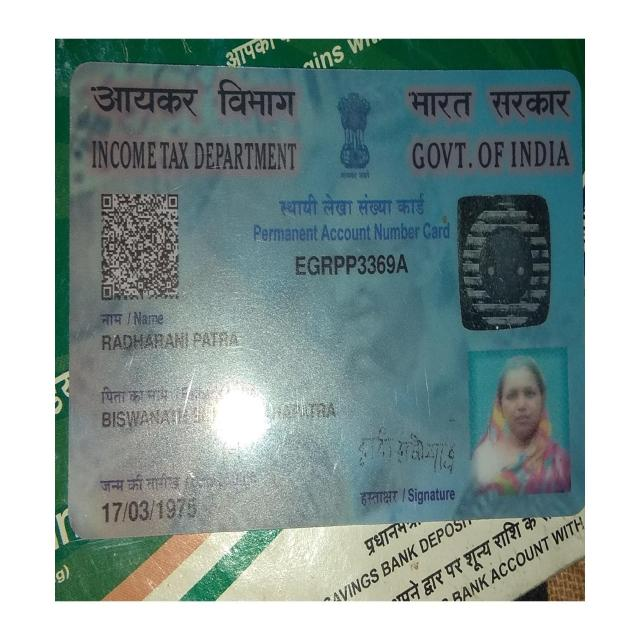pan_card: (69, 64, 582, 543)
